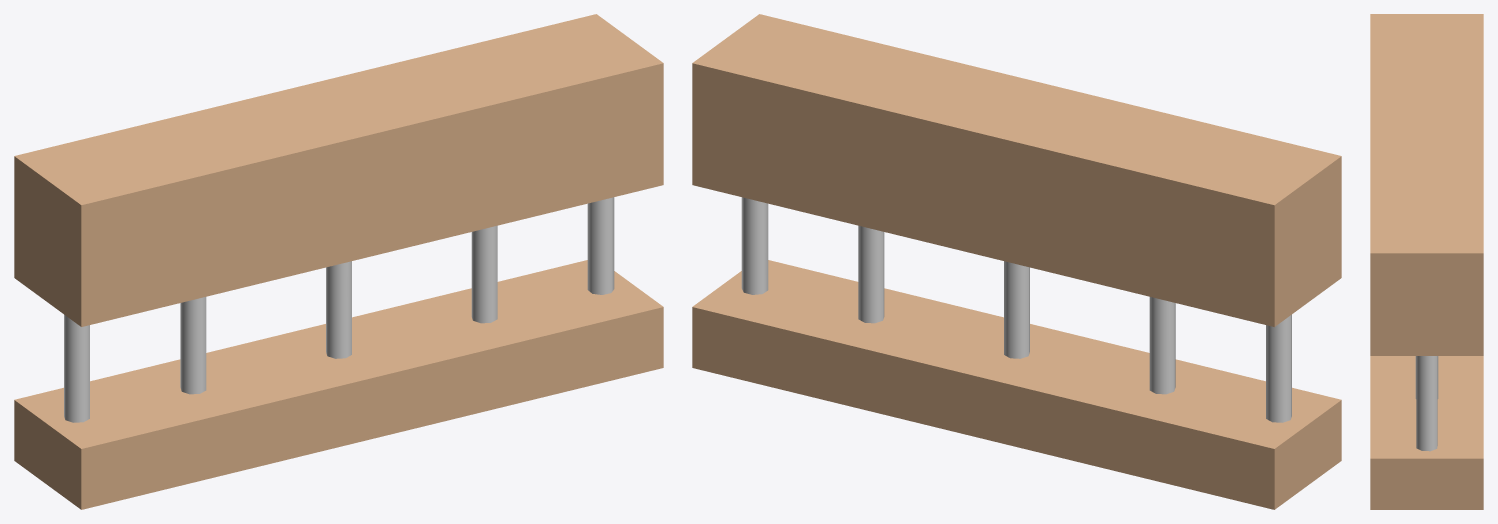
Rendered from jail_bars_upper.glb.
3 views of the same model, side by side, from view 1: azimuth 30°, elevation 25°; view 2: azimuth 150°, elevation 25°; view 3: azimuth 270°, elevation 25° (orthographic). The views are drawn at different scales.
Visible parts, largest first — view 1: BarsUpper; view 2: BarsUpper; view 3: BarsUpper.
Boxes of the visible parts, <box> form: BarsUpper: <box>14,14,663,509</box>; BarsUpper: <box>692,14,1341,509</box>; BarsUpper: <box>1370,14,1483,509</box>.
Size of the model in its own units: 1 by 0.5 by 0.2.
